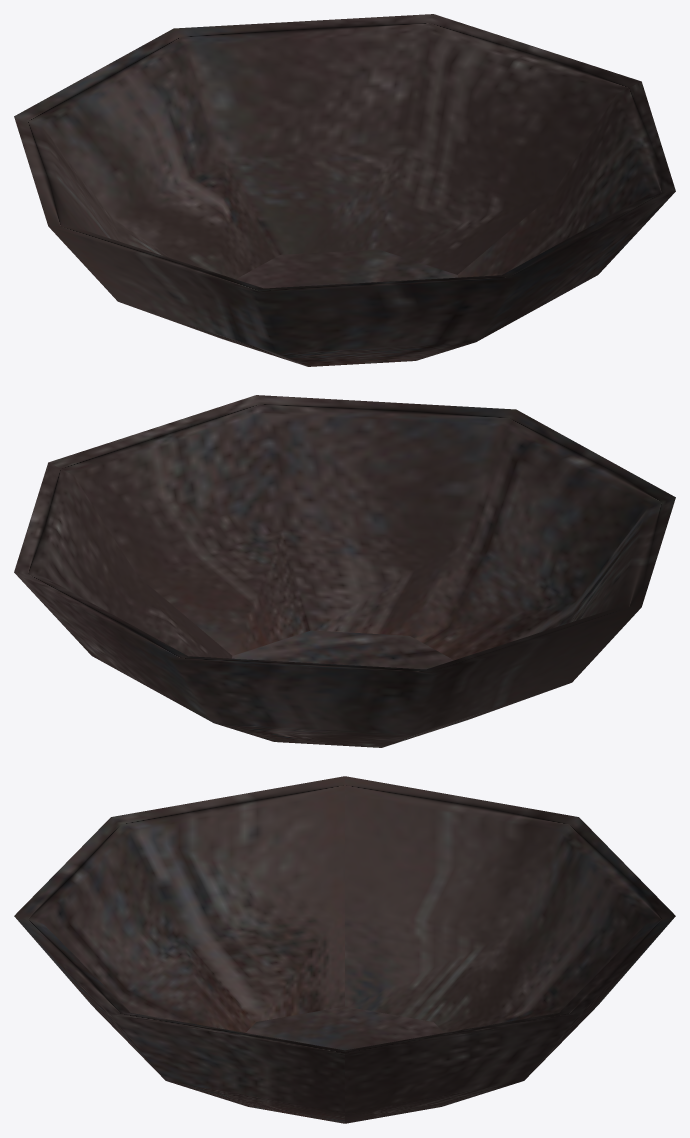
The model's file is bowl.fbx.
The picture shows the model from 3 angles, top to bottom: view 1: azimuth 30°, elevation 25°; view 2: azimuth 150°, elevation 25°; view 3: azimuth 270°, elevation 25°; orthographic projection. The views are drawn at different scales.
Parts seen in each view (by area): view 1: Bowl; view 2: Bowl; view 3: Bowl.
Part boxes in pixels (x1,y1,x2,y2): Bowl: (14,14,675,366); Bowl: (14,395,675,747); Bowl: (14,776,675,1123).
Bounding box in the file's own units: 0.2653 × 0.0663 × 0.2653.
